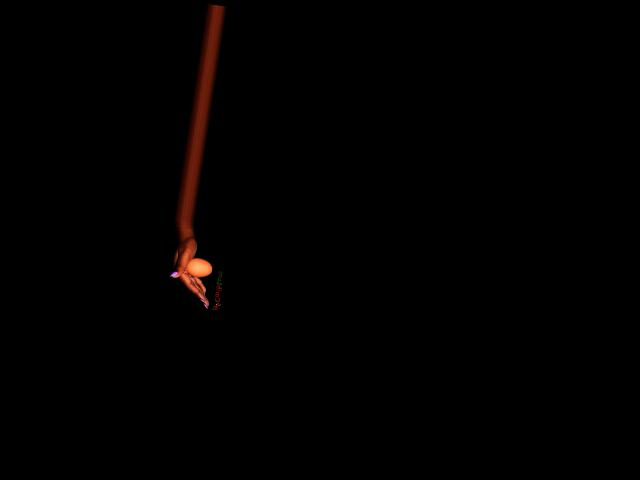egg: (185, 256, 213, 279)
